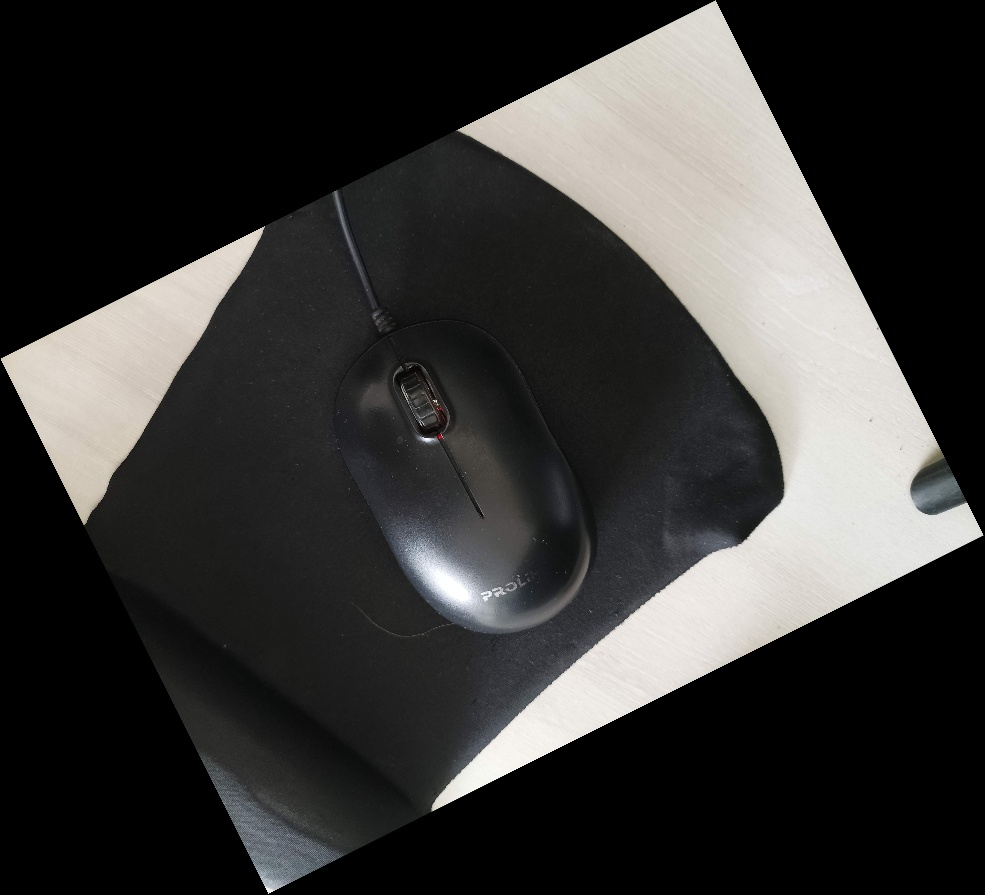mouse: (330, 310, 594, 642)
